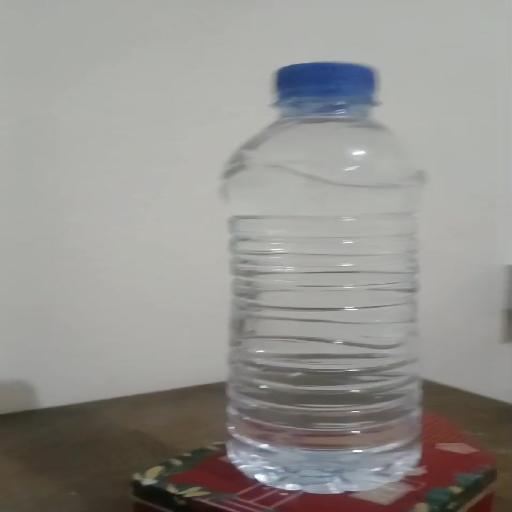bouteille non conformite: (150, 63, 512, 512), (111, 206, 461, 332)
